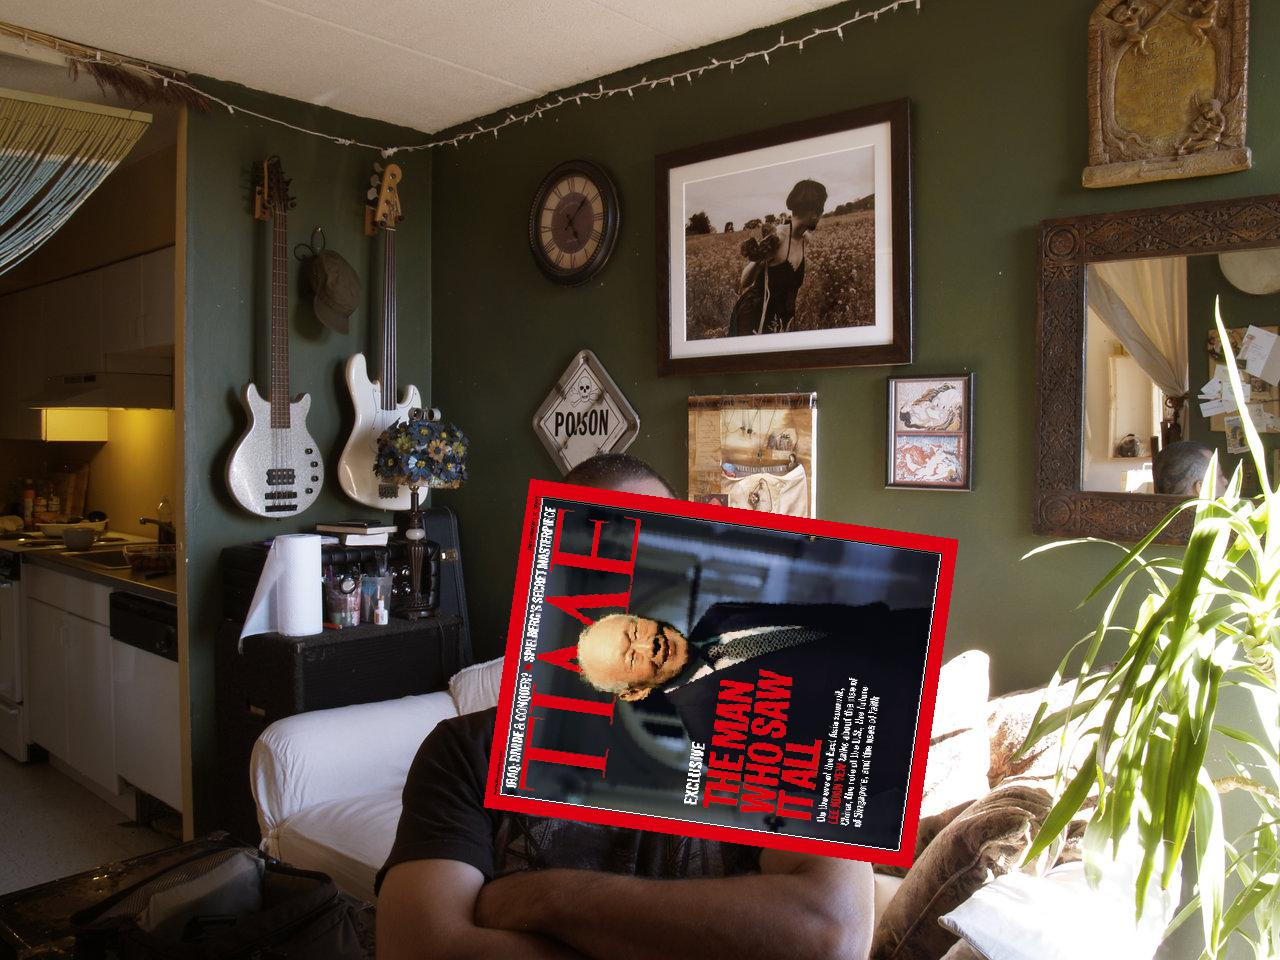times: (477, 478, 962, 867)
